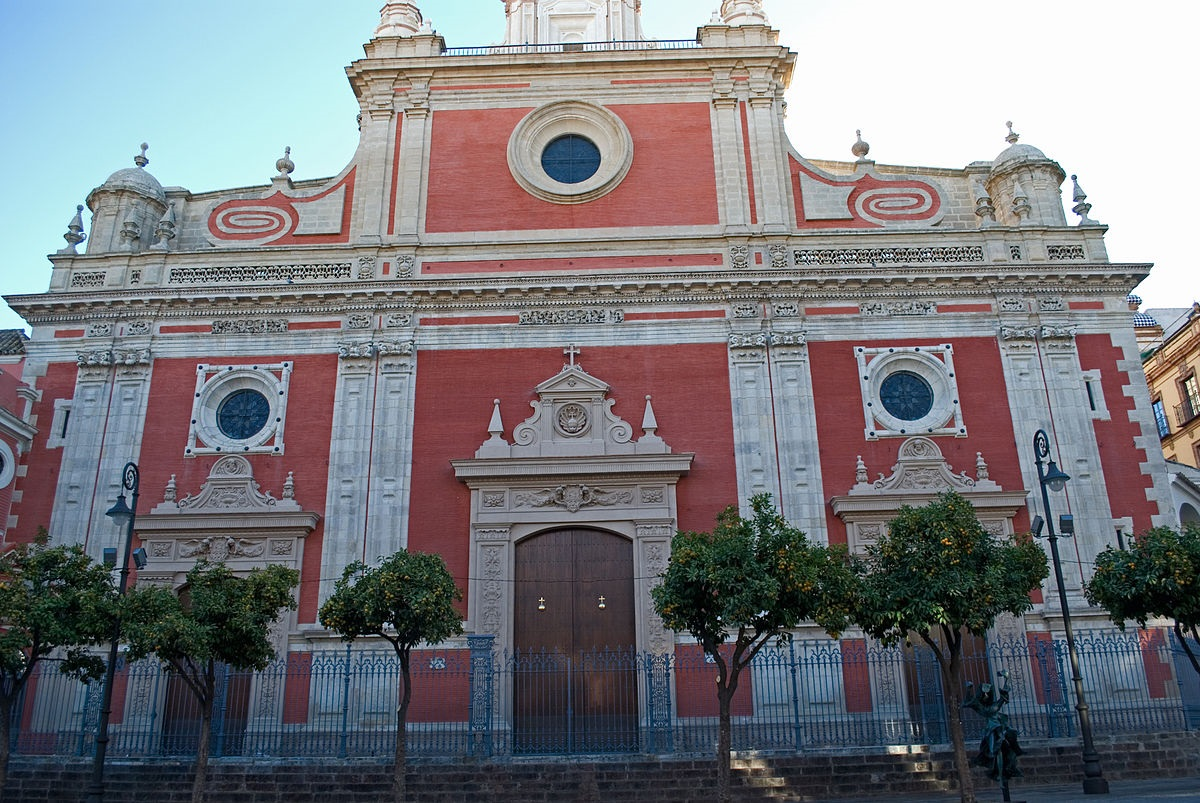ojo-de-buey: (535, 122, 609, 189), (873, 364, 945, 425), (208, 379, 275, 444)
vano-adintelado: (454, 478, 686, 760), (119, 530, 316, 750)
